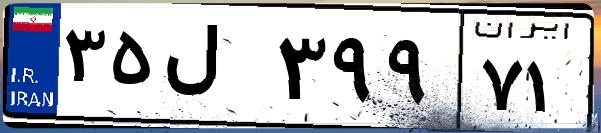1: (525, 38, 570, 115)
3: (270, 28, 330, 110), (57, 26, 110, 100)
5: (110, 28, 158, 98)
7: (475, 38, 525, 113)
9: (385, 28, 445, 110), (330, 28, 385, 110)
ل: (158, 20, 270, 120)
